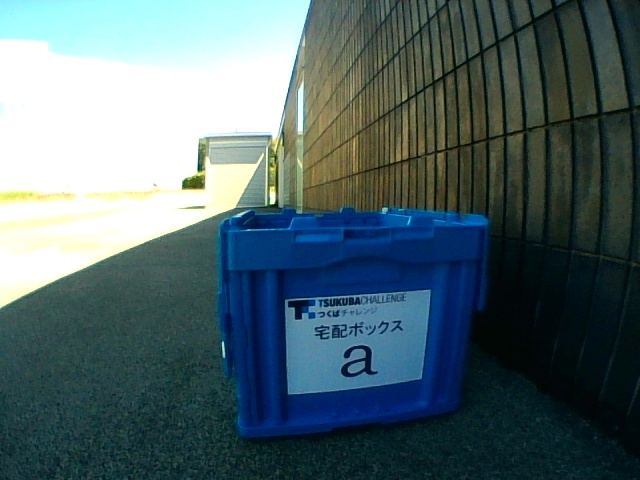blue_box: (217, 207, 489, 436)
tag_a: (289, 300, 420, 379)
